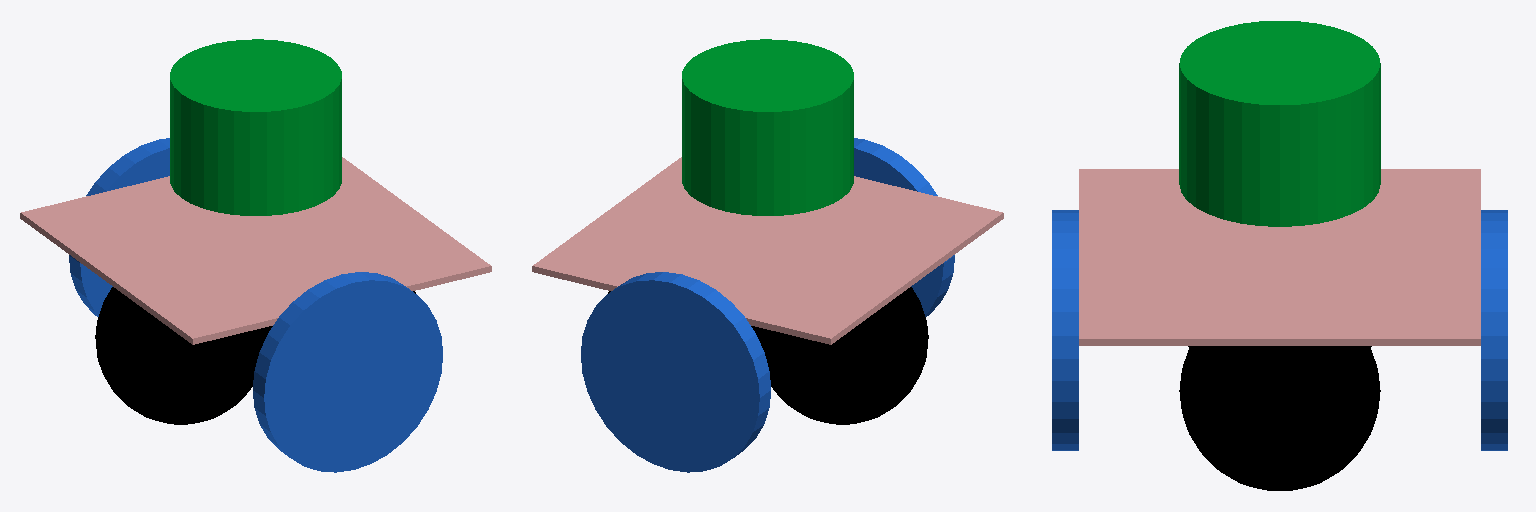
URDF robot description (linorobot2_2wd):
<?xml version="1.0" ?>
<!-- =================================================================================== -->
<!-- |    This document was autogenerated by xacro from kw.urdf.xacro                  | -->
<!-- |    EDITING THIS FILE BY HAND IS NOT RECOMMENDED                                 | -->
<!-- =================================================================================== -->
<robot name="linorobot2_2wd">
  <!-- <xacro:property name="base_mesh_file" value="file://$(find linorobot2_description)/meshes/base.dae" /> -->
  <!-- <xacro:property name="wheel_mesh_file" value="file://$(find linorobot2_description)/meshes/tire.dae" /> -->
  <gazebo>
    <plugin filename="gz-sim-sensors-system" name="gz::sim::systems::Sensors">
      <render_engine>ogre2</render_engine>
    </plugin>
  </gazebo>
  <link name="base_footprint"/>
  <link name="base_link">
    <visual>
      <origin rpy="0 0 0" xyz="0 0 0"/>
      <geometry>
        <box size="0.15 0.15 0.003"/>
      </geometry>
      <material name="yellow">
        <color rgba="0.8784 0.6627 0.6627 1.0"/>
      </material>
    </visual>
    <collision>
      <origin rpy="0 0 0" xyz="0 0 0"/>
      <geometry>
        <box size="0.15 0.15 0.003"/>
      </geometry>
    </collision>
    <inertial>
      <origin rpy="0 0 0" xyz="0 0 0"/>
      <mass value="1"/>
      <inertia ixx="0.0018757499999999998" ixy="0.0" ixz="0.0" iyy="0.0018757499999999998" iyz="0.0" izz="0.00375"/>
    </inertial>
  </link>
  <gazebo reference="base_link">
    <visual>
      <material>
        <ambient>0.8392 0.6314 0.0 1.0</ambient>
        <diffuse>0.8392 0.6314 0.0 1.0</diffuse>
        <specular>0.99 0.99 0.99 1.0</specular>
        <emissive>0.0 0.0 0.0 0.0</emissive>
      </material>
    </visual>
  </gazebo>
  <joint name="base_to_footprint" type="fixed">
    <parent link="base_footprint"/>
    <child link="base_link"/>
    <origin rpy="0 0 0" xyz="0 0 0.075"/>
  </joint>
  <link name="left_wheel_link">
    <visual>
      <origin rpy="1.5707963267948966 0 0" xyz="0 0 0"/>
      <geometry>
        <cylinder length="0.01" radius="0.045"/>
      </geometry>
      <material name="blue">
        <color rgba="0.1764 0.4588 0.8509 1.0"/>
      </material>
    </visual>
    <collision>
      <origin rpy="1.5707963267948966 0 0" xyz="0 0 0"/>
      <geometry>
        <cylinder length="0.01" radius="0.045"/>
      </geometry>
    </collision>
    <inertial>
      <origin rpy="0 0 0" xyz="0 0 0"/>
      <mass value="0.1"/>
      <inertia ixx="8.100000000000002e-05" ixy="0" ixz="0" iyy="8.100000000000002e-05" iyz="0" izz="8.100000000000002e-05"/>
    </inertial>
  </link>
  <gazebo reference="left_wheel_link">
    <visual>
      <material>
        <ambient>0.1764 0.4588 0.8509 1.0</ambient>
        <diffuse>0.1764 0.4588 0.8509 1.0</diffuse>
        <specular>0.1764 0.4588 0.8509 1.0</specular>
        <emissive>0.0 0.0 0.0 0.0</emissive>
      </material>
    </visual>
  </gazebo>
  <joint name="left_wheel_joint" type="continuous">
    <axis xyz="0 1 0"/>
    <parent link="base_link"/>
    <child link="left_wheel_link"/>
    <origin rpy="0 0 0" xyz="0.0 0.08 -0.03"/>
  </joint>
  <link name="right_wheel_link">
    <visual>
      <origin rpy="1.5707963267948966 0 0" xyz="0 0 0"/>
      <geometry>
        <cylinder length="0.01" radius="0.045"/>
      </geometry>
      <material name="blue">
        <color rgba="0.1764 0.4588 0.8509 1.0"/>
      </material>
    </visual>
    <collision>
      <origin rpy="1.5707963267948966 0 0" xyz="0 0 0"/>
      <geometry>
        <cylinder length="0.01" radius="0.045"/>
      </geometry>
    </collision>
    <inertial>
      <origin rpy="0 0 0" xyz="0 0 0"/>
      <mass value="0.1"/>
      <inertia ixx="8.100000000000002e-05" ixy="0" ixz="0" iyy="8.100000000000002e-05" iyz="0" izz="8.100000000000002e-05"/>
    </inertial>
  </link>
  <gazebo reference="right_wheel_link">
    <visual>
      <material>
        <ambient>0.1764 0.4588 0.8509 1.0</ambient>
        <diffuse>0.1764 0.4588 0.8509 1.0</diffuse>
        <specular>0.1764 0.4588 0.8509 1.0</specular>
        <emissive>0.0 0.0 0.0 0.0</emissive>
      </material>
    </visual>
  </gazebo>
  <joint name="right_wheel_joint" type="continuous">
    <axis xyz="0 1 0"/>
    <parent link="base_link"/>
    <child link="right_wheel_link"/>
    <origin rpy="0 0 0" xyz="0.0 -0.08 -0.03"/>
  </joint>
  <link name="front_caster_wheel_link">
    <visual>
      <origin rpy="0 0 0" xyz="0 0 0"/>
      <geometry>
        <sphere radius="0.0375"/>
      </geometry>
      <material name="black">
        <color rgba="0.0 0.0 0.0 1.0"/>
      </material>
    </visual>
    <collision>
      <origin rpy="0 0 0" xyz="0 0 0"/>
      <geometry>
        <sphere radius="0.0375"/>
      </geometry>
    </collision>
    <inertial>
      <origin rpy="0 0 0" xyz="0 0 0"/>
      <mass value="0.01"/>
      <inertia ixx="5.6249999999999995e-06" ixy="0" ixz="0" iyy="5.6249999999999995e-06" iyz="0" izz="5.6249999999999995e-06"/>
    </inertial>
  </link>
  <gazebo reference="front_caster_wheel_link">
    <mu1>0.01</mu1>
    <mu2>0.01</mu2>
  </gazebo>
  <joint name="front_caster_wheel_joint" type="fixed">
    <parent link="base_link"/>
    <child link="front_caster_wheel_link"/>
    <origin rpy="0 0 0" xyz="0.0375 0 -0.0375"/>
  </joint>
  <link name="rear_caster_wheel_link">
    <visual>
      <origin rpy="0 0 0" xyz="0 0 0"/>
      <geometry>
        <sphere radius="0.0375"/>
      </geometry>
      <material name="black">
        <color rgba="0.0 0.0 0.0 1.0"/>
      </material>
    </visual>
    <collision>
      <origin rpy="0 0 0" xyz="0 0 0"/>
      <geometry>
        <sphere radius="0.0375"/>
      </geometry>
    </collision>
    <inertial>
      <origin rpy="0 0 0" xyz="0 0 0"/>
      <mass value="0.01"/>
      <inertia ixx="5.6249999999999995e-06" ixy="0" ixz="0" iyy="5.6249999999999995e-06" iyz="0" izz="5.6249999999999995e-06"/>
    </inertial>
  </link>
  <gazebo reference="rear_caster_wheel_link">
    <mu1>0.01</mu1>
    <mu2>0.01</mu2>
  </gazebo>
  <joint name="rear_caster_wheel_joint" type="fixed">
    <parent link="base_link"/>
    <child link="rear_caster_wheel_link"/>
    <origin rpy="0 0 0" xyz="-0.0375 0 -0.0375"/>
  </joint>
  <link name="imu_link"/>
  <joint name="imu_to_base_link" type="fixed">
    <parent link="base_link"/>
    <child link="imu_link"/>
    <origin rpy="0 0 0" xyz="0 0 0"/>
  </joint>
  <gazebo>
    <plugin filename="gz-sim-imu-system" name="gz::sim::systems::Imu">
      </plugin>
  </gazebo>
  <gazebo reference="imu_link">
    <sensor name="imu_sensor" type="imu">
      <topic>imu/data</topic>
      <update_rate>50</update_rate>
      <always_on>true</always_on>
      <visualize>true</visualize>
    </sensor>
  </gazebo>
  <link name="laser">
    <visual>
      <origin rpy="0 0 0" xyz="0 0 -0.025"/>
      <geometry>
        <cylinder length="0.05" radius="0.0375"/>
      </geometry>
      <material name="green">
        <color rgba="0.003 0.639 0.223 1.0"/>
      </material>
    </visual>
    <collision>
      <origin rpy="0 0 0" xyz="0 0 -0.025"/>
      <geometry>
        <cylinder length="0.05" radius="0.0375"/>
      </geometry>
    </collision>
    <inertial>
      <origin rpy="0 0 0" xyz="0 0 0"/>
      <mass value="0.1"/>
      <inertia ixx="5.625000000000001e-05" ixy="0" ixz="0" iyy="5.625000000000001e-05" iyz="0" izz="5.625000000000001e-05"/>
    </inertial>
  </link>
  <gazebo reference="laser">
    <visual>
      <material>
        <ambient>0.003 0.639 0.223 1.0</ambient>
        <diffuse>0.003 0.639 0.223 1.0</diffuse>
        <specular>0.003 0.639 0.223 1.0</specular>
        <emissive>0.0 0.0 0.0 0.0</emissive>
      </material>
    </visual>
  </gazebo>
  <joint name="laser_to_base_link" type="fixed">
    <parent link="base_link"/>
    <child link="laser"/>
    <origin rpy="0 0 0" xyz="0 0 0.08"/>
  </joint>
  <gazebo reference="laser">
    <sensor name="gpu_lidar" type="gpu_lidar">
      <topic>scan</topic>
      <gz_frame_id>laser</gz_frame_id>
      <update_rate>10</update_rate>
      <always_on>true</always_on>
      <visualize>true</visualize>
      <lidar>
        <scan>
          <horizontal>
            <samples>360</samples>
            <resolution>1</resolution>
            <min_angle>-3.1416</min_angle>
            <max_angle>3.1416</max_angle>
          </horizontal>
          <vertical>
            <samples>1</samples>
            <resolution>1</resolution>
            <min_angle>0.0</min_angle>
            <max_angle>0.0</max_angle>
          </vertical>
        </scan>
        <range>
          <min>0.08</min>
          <max>12.0</max>
          <resolution>0.01</resolution>
        </range>
      </lidar>
    </sensor>
  </gazebo>
  <gazebo>
    <plugin filename="gz-sim-diff-drive-system" name="gz::sim::systems::DiffDrive">
      <topic>cmd_vel</topic>
      <!-- <frame_id>odom</frame_id> -->
      <child_frame_id>base_footprint</child_frame_id>
      <odom_topic>odom/unfiltered</odom_topic>
      <!-- <tf_topic>/tf</tf_topic> -->
      <left_joint>left_wheel_joint</left_joint>
      <right_joint>right_wheel_joint</right_joint>
      <wheel_separation>0.16</wheel_separation>
      <wheel_radius>0.045</wheel_radius>
      <odom_publish_frequency>50</odom_publish_frequency>
    </plugin>
  </gazebo>
  <gazebo>
    <plugin filename="gz-sim-joint-state-publisher-system" name="gz::sim::systems::JointStatePublisher">
      <topic>joint_states</topic>
      <update_rate>50</update_rate>
      <joint_name>left_wheel_joint</joint_name>
      <joint_name>right_wheel_joint</joint_name>
    </plugin>
  </gazebo>
  <link name="king_link">
    <visual>
      <origin rpy="0 0 1.5708" xyz="0 0 0"/>
      <geometry>
        <mesh filename="file:///home/bouchier/linorobot2/linorobot2_ws/install/linorobot2_description/share/linorobot2_description/meshes/kw.dae" scale="0.16667 0.16667 0.16667"/>
      </geometry>
    </visual>
  </link>
  <joint name="king_joint" type="fixed">
    <parent link="base_link"/>
    <child link="king_link"/>
    <origin rpy="0 0 0" xyz="0 0 0.0015"/>
  </joint>
</robot>

--- What the picture shows (computed from the rendered views, not written in the file) ---
3 views of the same robot in one strip: view 1: azimuth 30°, elevation 25°; view 2: azimuth 150°, elevation 25°; view 3: azimuth 270°, elevation 25° (orthographic).
Model linorobot2_2wd with 9 links and 8 joints (2 continuous, 6 fixed), rooted at base_footprint, posed all joints at 0.
Visible links, largest first — view 1: base_link, right_wheel_link, laser, rear_caster_wheel_link, left_wheel_link; view 2: base_link, left_wheel_link, laser, rear_caster_wheel_link, right_wheel_link; view 3: base_link, laser, front_caster_wheel_link, left_wheel_link, right_wheel_link.
Boxes of the visible links, x1,y1,x2,y2 form: base_link: (20,157,491,344); right_wheel_link: (253,272,442,472); laser: (170,39,341,215); rear_caster_wheel_link: (95,287,266,424); left_wheel_link: (69,138,169,316); base_link: (532,157,1003,344); left_wheel_link: (581,272,770,472); laser: (682,39,853,215); rear_caster_wheel_link: (757,287,928,424); right_wheel_link: (854,138,954,316); base_link: (1079,169,1480,345); laser: (1179,21,1380,226); front_caster_wheel_link: (1179,346,1380,490); left_wheel_link: (1481,210,1507,450); right_wheel_link: (1052,210,1078,450).
Bounding box of the posed robot: 0.15 × 0.17 × 0.155 m (x, y, z).
Geometry: only primitive shapes (box / cylinder / sphere) drawn; not drawn: 1 mesh visual (reference in a form the renderer does not follow).
